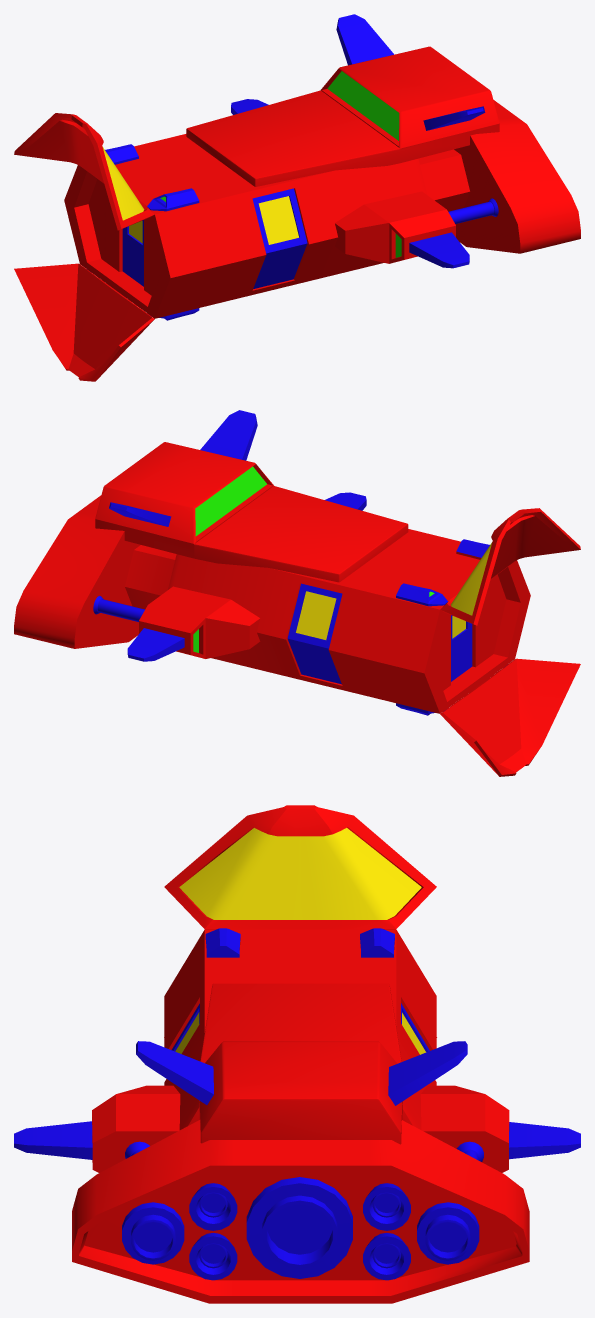
The model's file is Shuttle open.FBX.
The picture shows the model from 3 angles, top to bottom: view 1: azimuth 30°, elevation 25°; view 2: azimuth 150°, elevation 25°; view 3: azimuth 270°, elevation 25°; orthographic projection. The views are drawn at different scales.
Visible parts, largest first — view 1: Shuttle002, Object201, Object200; view 2: Shuttle002, Object201, Object200; view 3: Shuttle002, Object200.
Boxes of the visible parts, box(x1,y1,x2,y2) form: Shuttle002: box(64, 14, 580, 320); Object201: box(14, 263, 154, 381); Object200: box(14, 113, 154, 230); Shuttle002: box(14, 410, 530, 715); Object201: box(440, 658, 580, 776); Object200: box(440, 508, 580, 625); Shuttle002: box(14, 928, 580, 1303); Object200: box(164, 805, 436, 929).
Bounding box in the file's own units: 1088 × 620 × 976.
